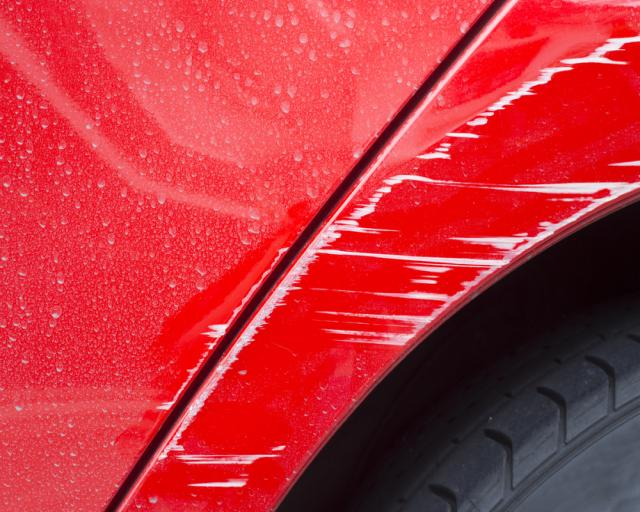scratch: (152, 19, 640, 494), (154, 245, 296, 414)
